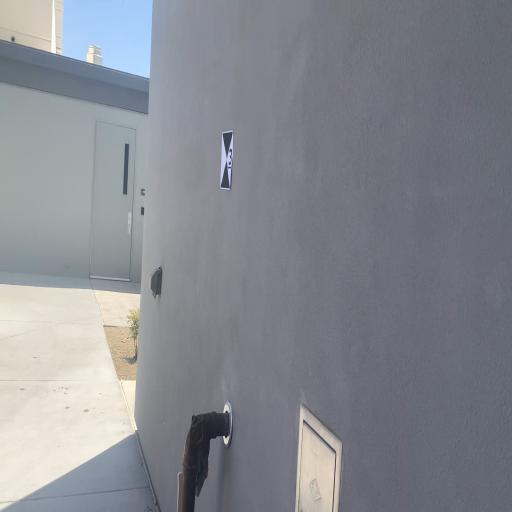target3: (219, 130, 234, 191)
